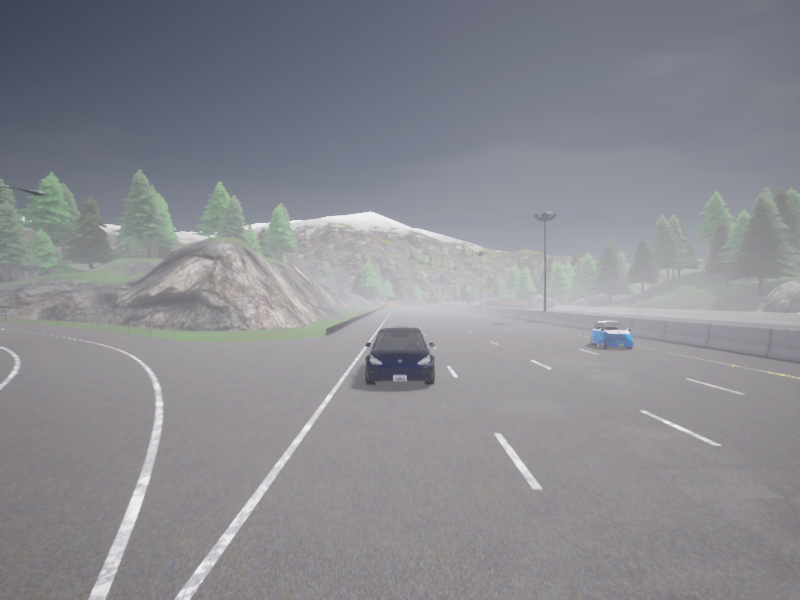vehicle: (365, 327, 434, 384), (590, 321, 633, 349), (469, 301, 472, 303), (483, 301, 486, 303), (466, 302, 469, 304)
